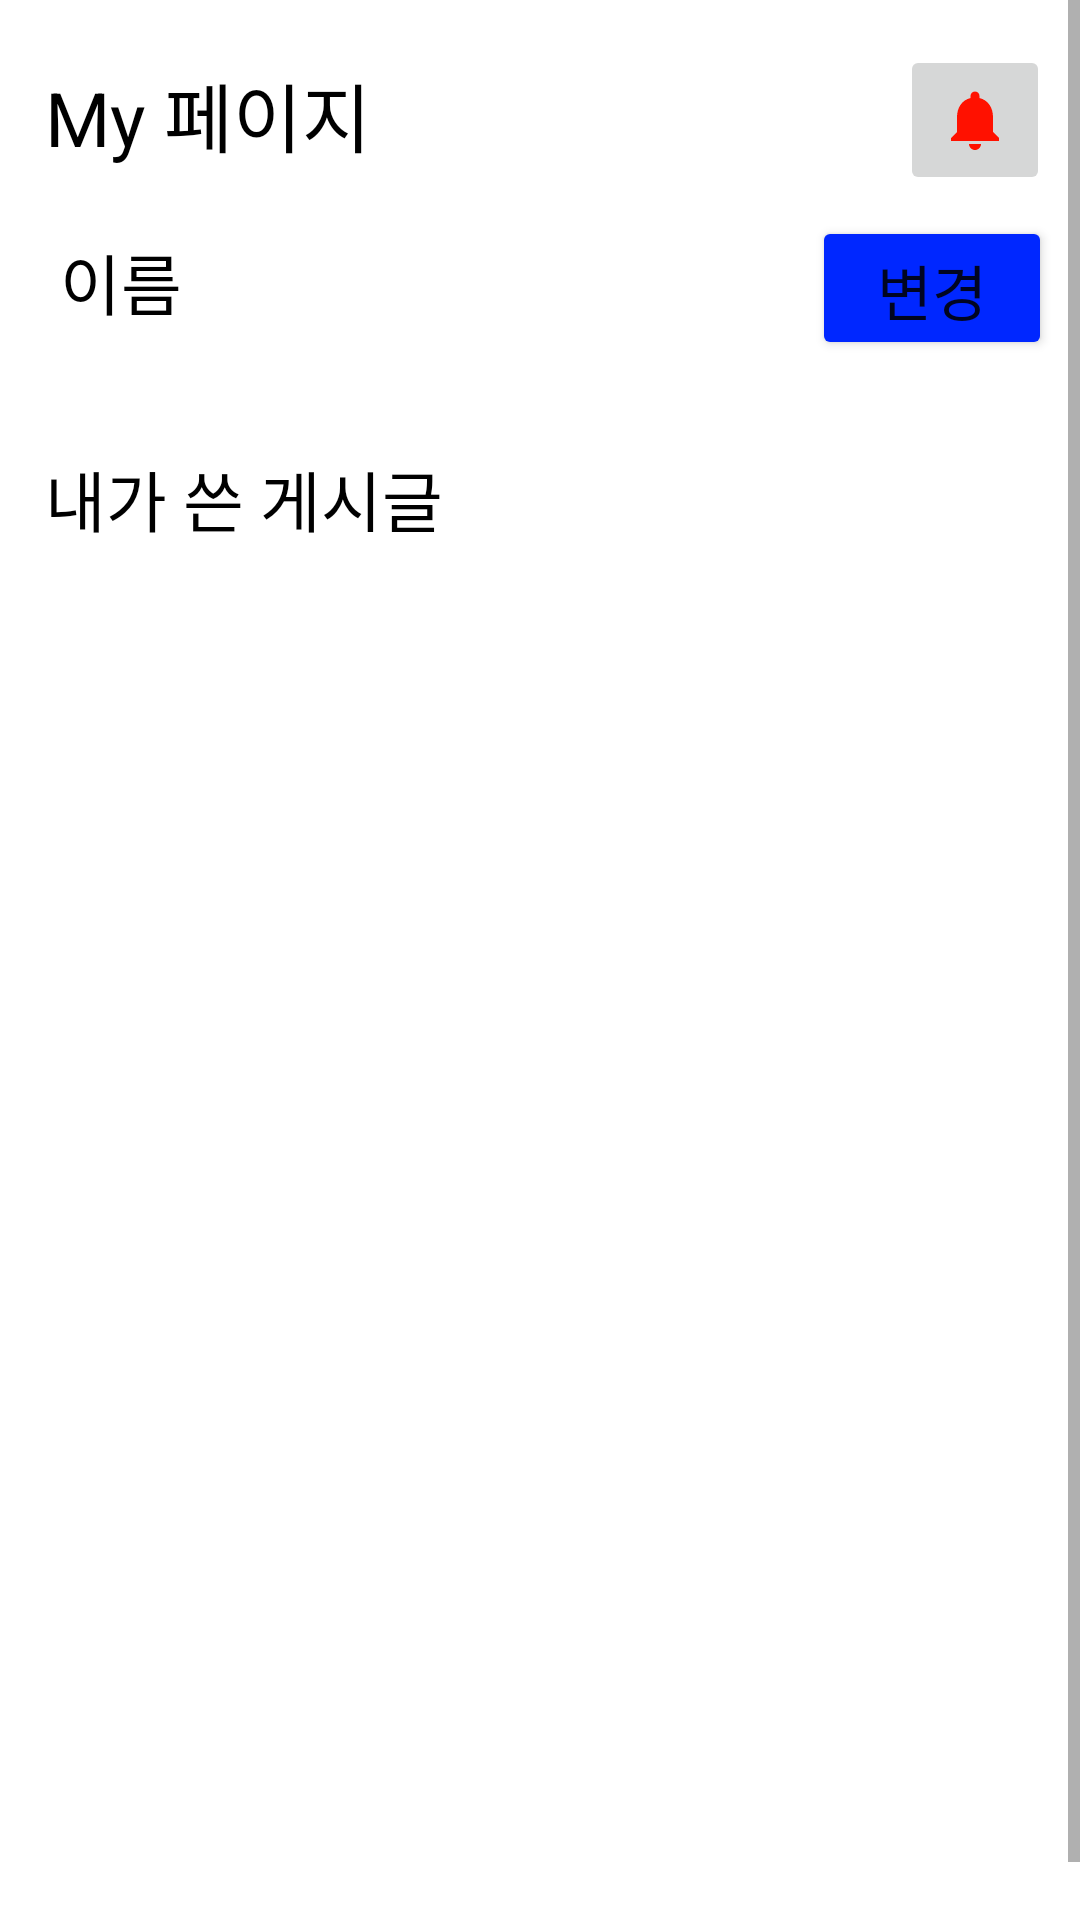

Named icons in this screenshot (1080px×1920px) and their bounding boxes, (x1, y1, x2, y2):
detail alarm: (912, 63, 1038, 177)
